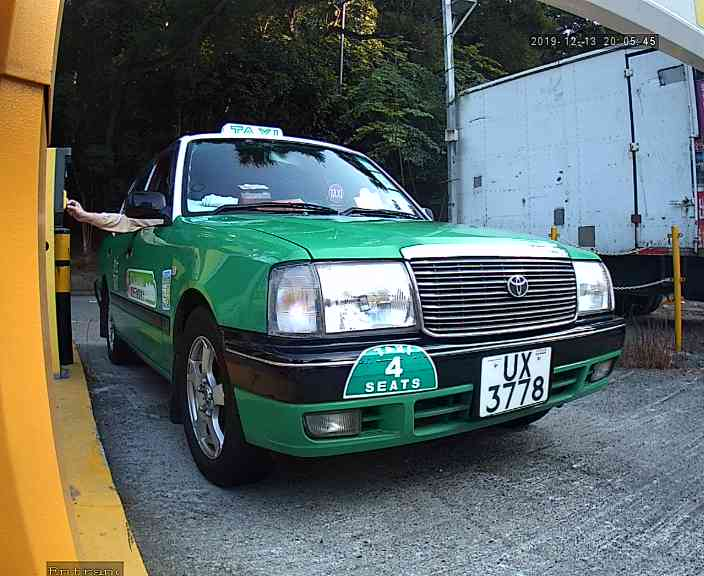taxi: (74, 115, 644, 509)
taxi_mark: (334, 329, 449, 411)
